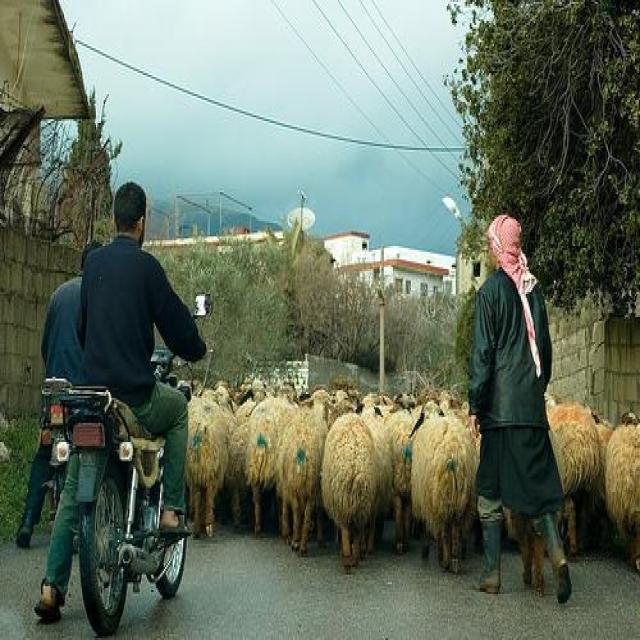Sheep: (410, 400, 480, 574), (282, 392, 341, 557), (322, 413, 377, 575), (556, 423, 610, 559), (246, 398, 294, 540), (186, 390, 230, 542), (548, 402, 616, 494)
